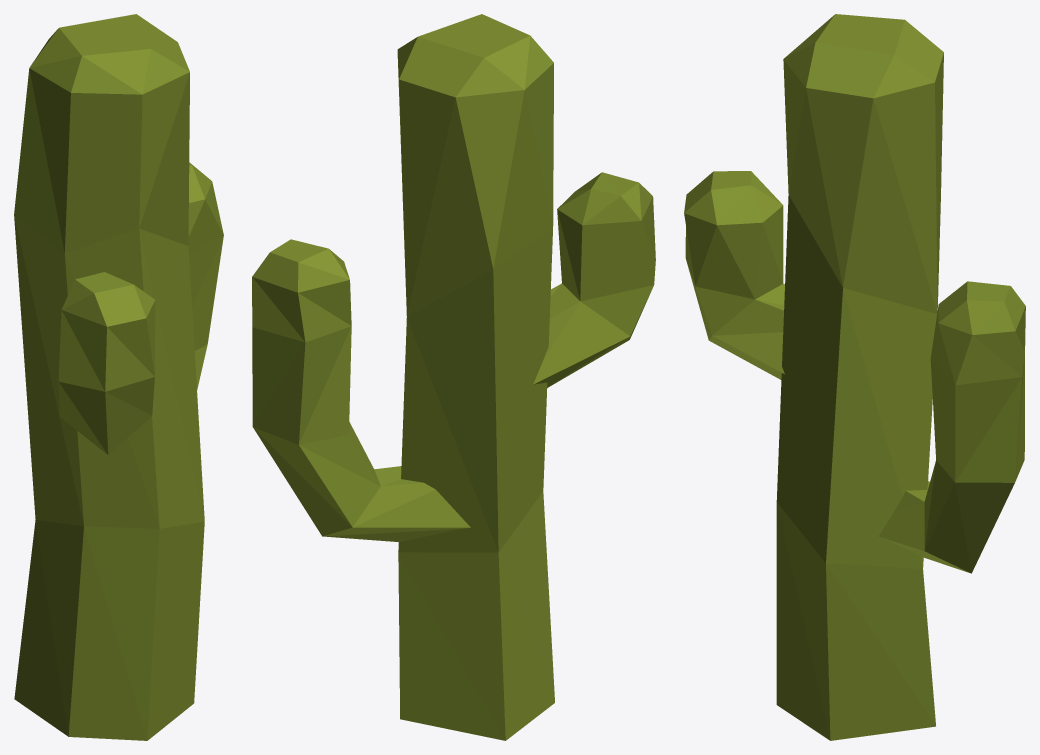
Rendered from plant_M02.FBX.
The picture shows the model from 3 angles, left to right: view 1: azimuth 30°, elevation 25°; view 2: azimuth 150°, elevation 25°; view 3: azimuth 270°, elevation 25°; orthographic projection.
Parts seen in each view (by area): view 1: plant_M02; view 2: plant_M02; view 3: plant_M02.
Part boxes in pixels (x1=…): plant_M02: x1=14, y1=14, x2=223, y2=740; plant_M02: x1=252, y1=14, x2=655, y2=740; plant_M02: x1=684, y1=14, x2=1025, y2=740.
Size of the model in its own units: 65.58 by 153 by 70.25.
Materials: 1 (1 with a texture image).
